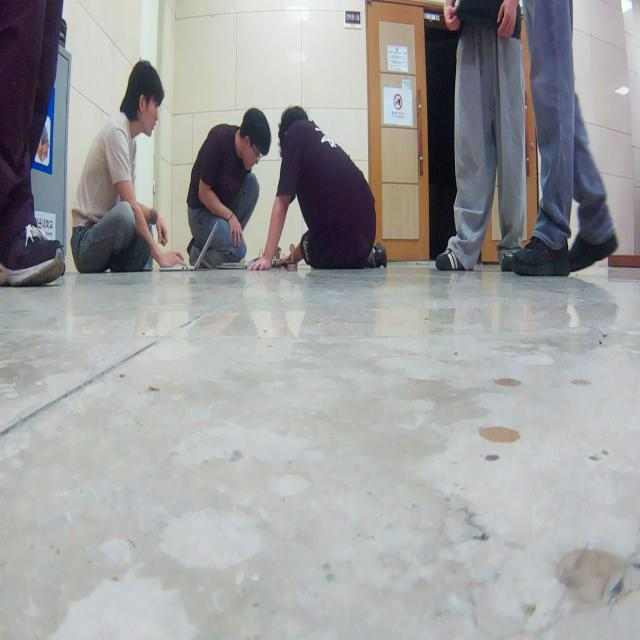target: (287, 244, 298, 272)
